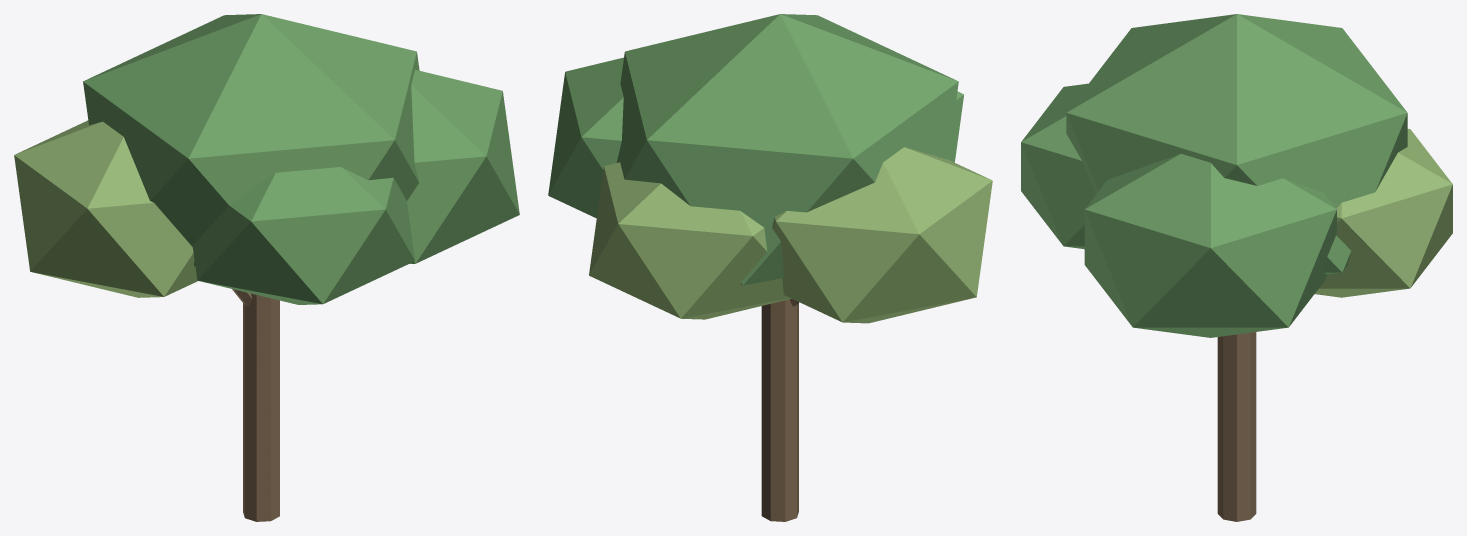
File: tree-shade.glb
The picture shows the model from 3 angles, left to right: view 1: azimuth 30°, elevation 25°; view 2: azimuth 150°, elevation 25°; view 3: azimuth 270°, elevation 25°; orthographic projection.
Parts seen in each view (by area): view 1: crown, trunk; view 2: crown, trunk; view 3: crown, trunk.
Boxes of the visible parts, x1,y1,x2,y2 form: crown: [14, 14, 519, 304]; trunk: [232, 289, 279, 521]; crown: [548, 14, 992, 323]; trunk: [761, 298, 799, 521]; crown: [1021, 14, 1452, 337]; trunk: [1217, 332, 1256, 521].
Bounding box in the file's own units: 5.85 × 6.32 × 4.95.
